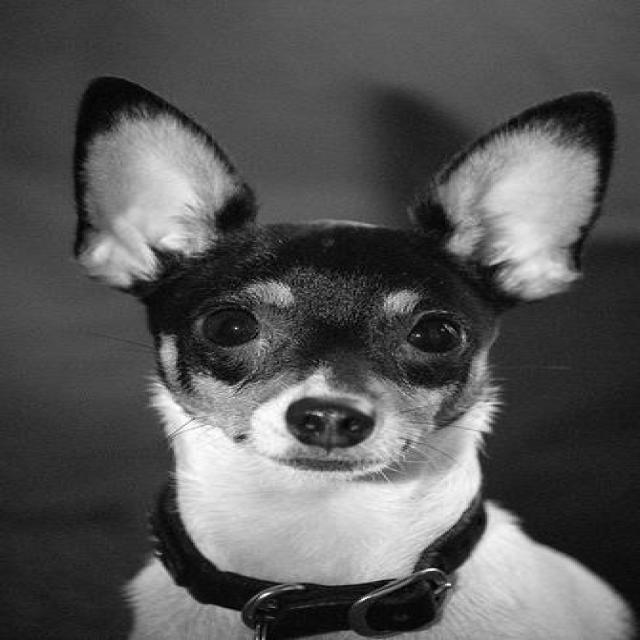toy_terrier: (69, 73, 634, 637)
